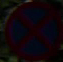No Stopping: (5, 5, 59, 55)
